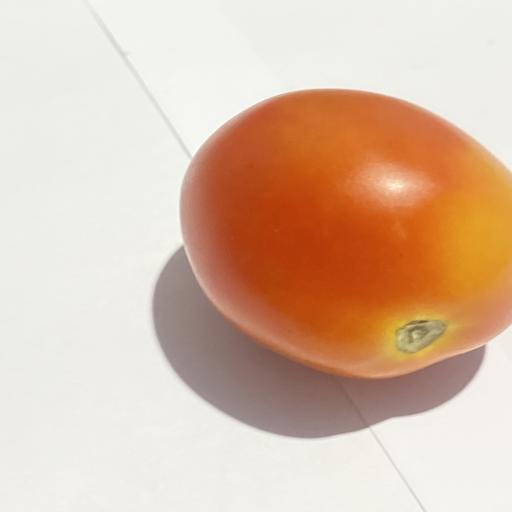ripe: (180, 89, 512, 379)
